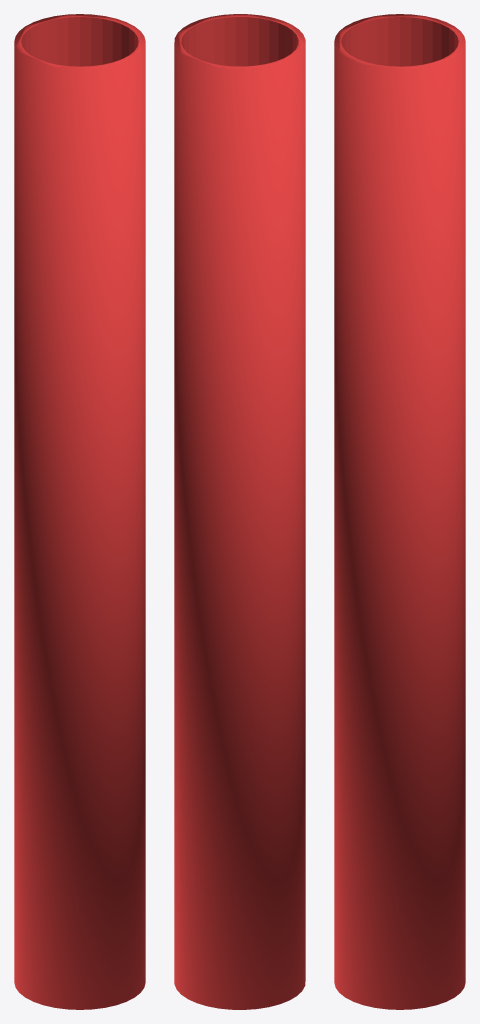
Rendered from Relay baton.glb.
3 renders of one model, left to right at view 1: azimuth 90°, elevation 25°; view 2: azimuth 150°, elevation 25°; view 3: azimuth 270°, elevation 25°, orthographic.
Parts seen in each view (by area): view 1: MetaAthletics_RelayBaton; view 2: MetaAthletics_RelayBaton; view 3: MetaAthletics_RelayBaton.
Part boxes in pixels (left/top/right/bottom): MetaAthletics_RelayBaton: left=14, top=14, right=145, bottom=1009; MetaAthletics_RelayBaton: left=174, top=14, right=305, bottom=1009; MetaAthletics_RelayBaton: left=334, top=14, right=465, bottom=1009.
Size of the model in its own units: 0.038 by 0.3 by 0.038.
